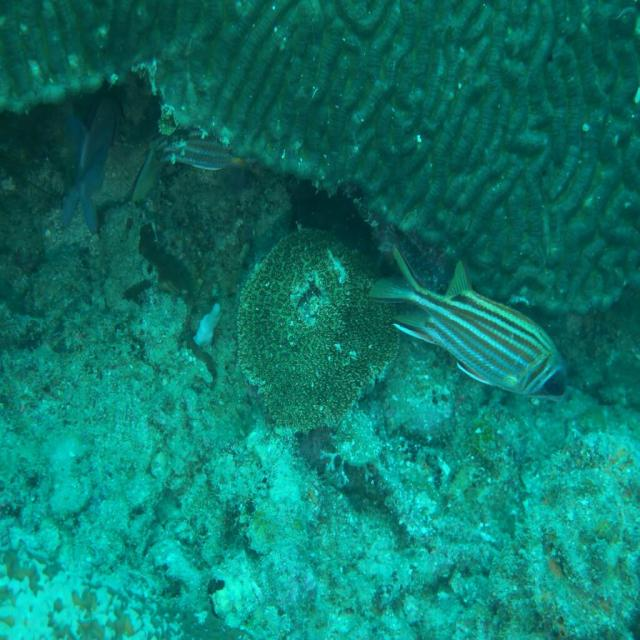Asker Baligi: (358, 214, 584, 420)
